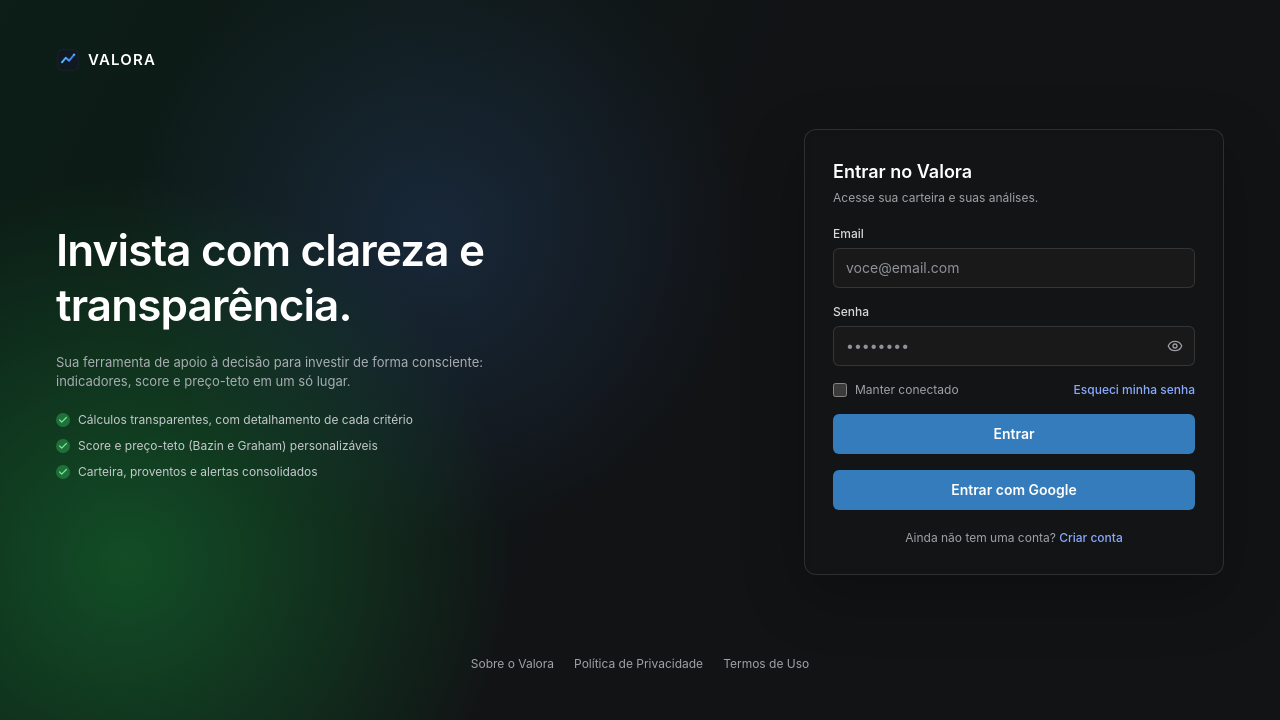
Test: permite iniciar Google e informa falha sem bloquear outra tentativa
Click the button "Entrar com Google". click: click(1014, 490)
box: [833, 470, 1195, 510]
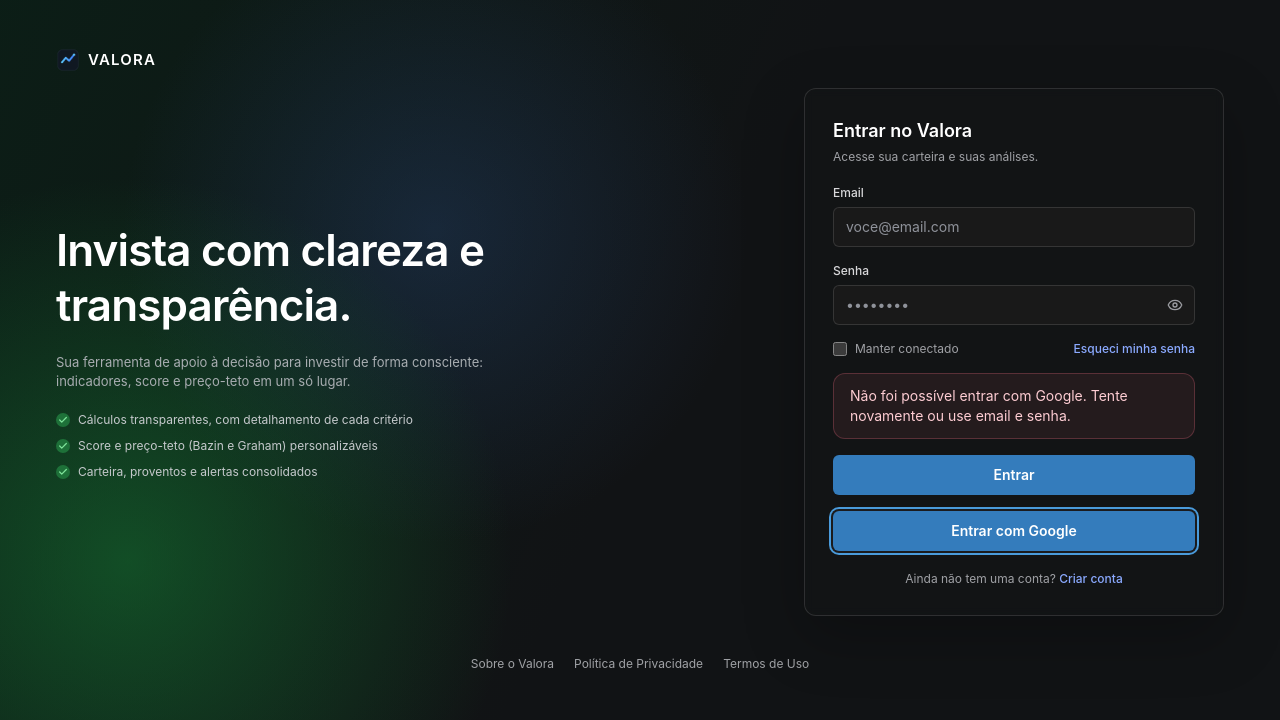
Expected: the button "Entrar com Google" is enabled, [833, 511, 1195, 551]
Expected: the message shows "Não foi possível entrar com Google", [850, 387, 1128, 424]
